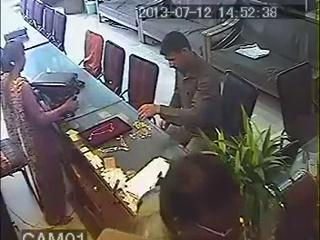Normal: (0, 36, 80, 230), (137, 31, 224, 145), (159, 152, 247, 240)
